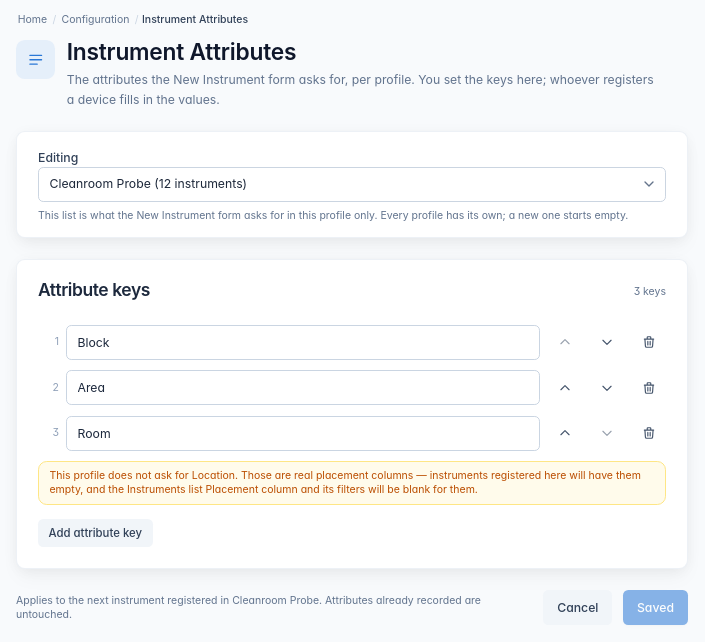
Test case: InstrumentAttributesConfigPage — placement advisory › warns on a brand-new empty profile, which asks for no placement at all
Select "Brand New (0 instruments)" in the dropdown labelled "Editing" at coordinates (352, 184), box x1=38 y1=167 x2=666 y2=202
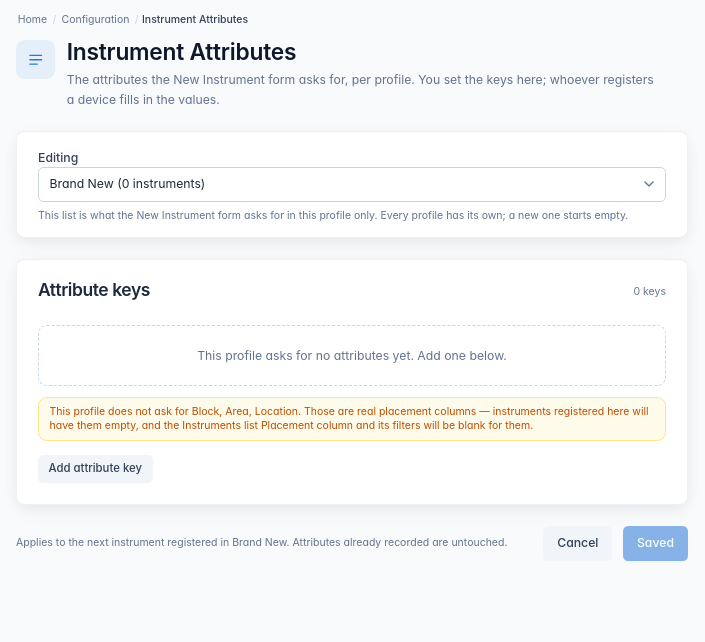
Expected: the text "Block, Area, Location" is shown, x1=192 y1=405 x2=298 y2=418
